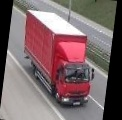truck: (16, 10, 98, 109)
